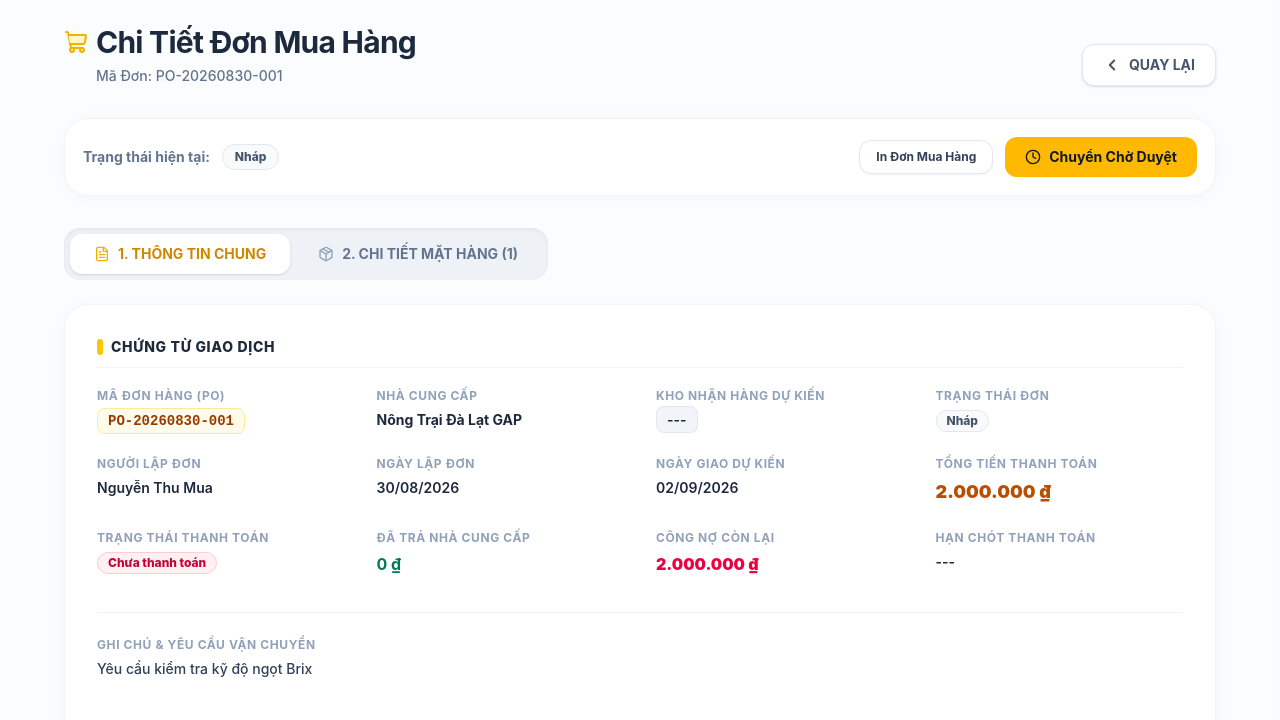
Module 09 - PurchaseOrderDetail Component › TC02 - Chuyển sang Tab Mặt hàng và hiển thị đúng SKU, Tên, Đơn giá, SL Đặt và SL Đã nhận
The width and height of the screenshot is (1280, 720).
Click the button "2. CHI TIẾT MẶT HÀNG (1)" at (418, 254), box top-left (294, 234), bottom-right (542, 274)
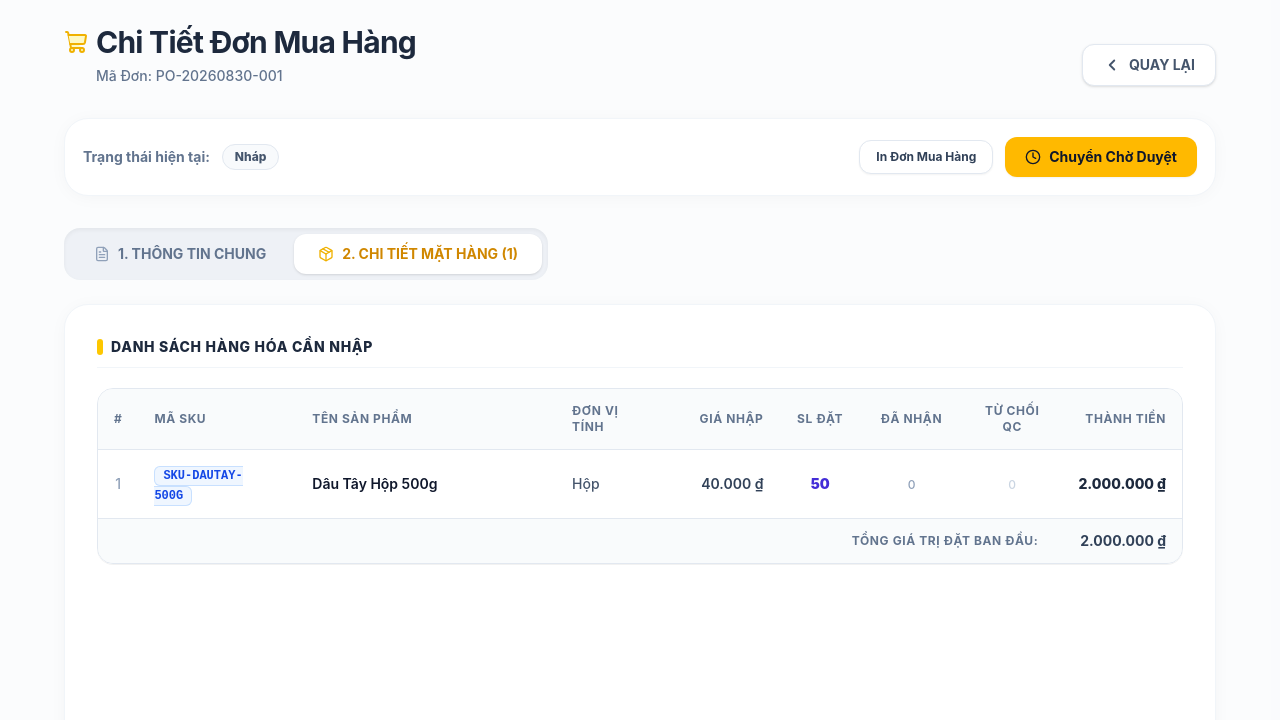
Expected: the text "SKU-DAUTAY-500G" is shown, top-left (154, 466), bottom-right (243, 506)
Expected: the text "Dâu Tây Hộp 500g" is shown, top-left (296, 450), bottom-right (556, 518)
Expected: the text "50" is shown, top-left (811, 475), bottom-right (830, 492)
